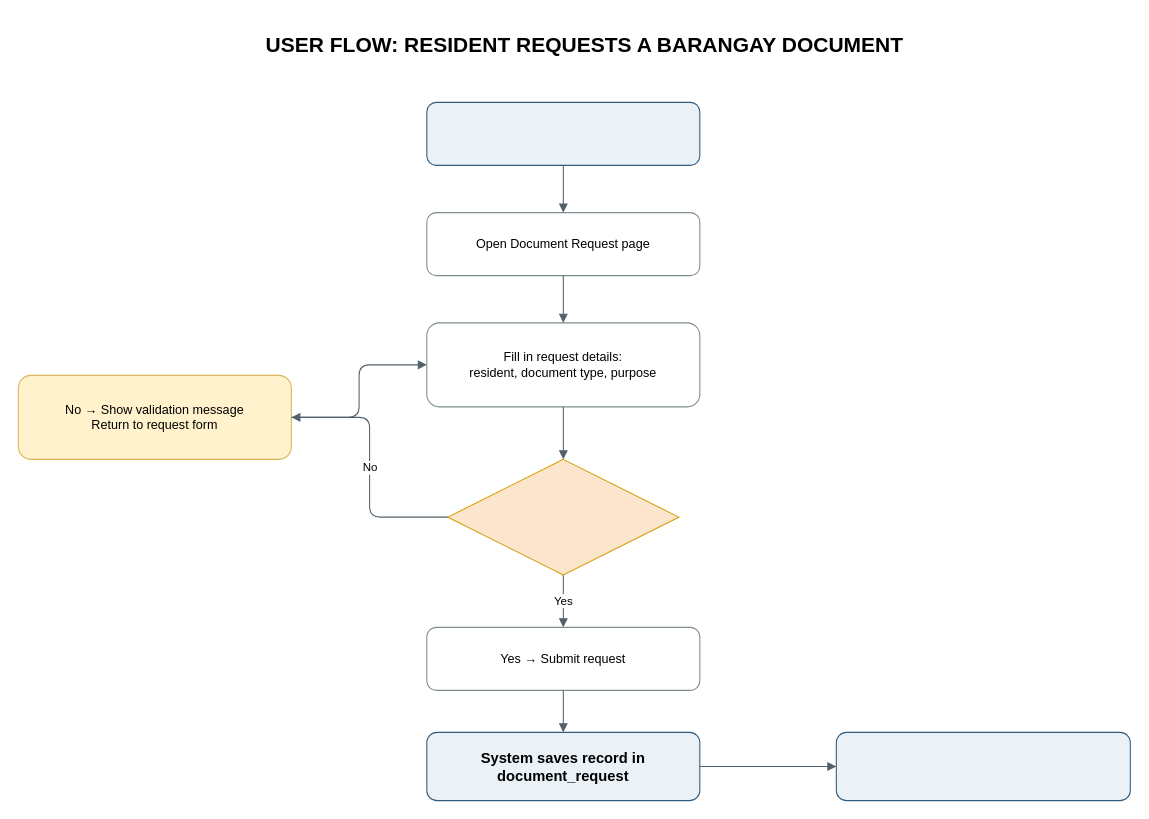
The diagram is 1149 pixels wide and 819 high, and some of its shapes have lost their labels. The centre of each missing label's shape, as x and y in pixels:
"Required information complete?" belongs at (563,516).
"Show confirmation / request details" belongs at (982,766).
"Start Resident opens system" belongs at (563,133).
